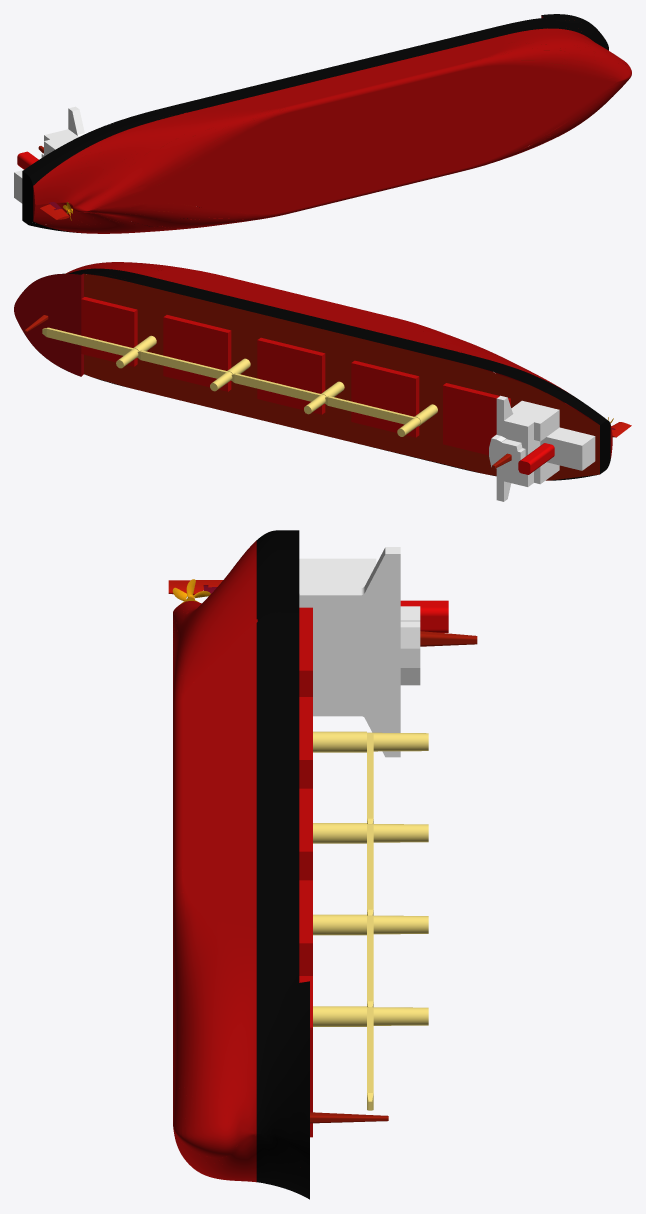
The model's file is BulkCarrier84.fbx.
3 renders of one model, top to bottom at view 1: azimuth 30°, elevation 25°; view 2: azimuth 150°, elevation 25°; view 3: azimuth 270°, elevation 25°, orthographic. The views are drawn at different scales.
Parts seen in each view (by area): view 1: BC84_Hull_Lower, BC84_Hull_Upper, BC84_Super; view 2: BC84_Deck, BC84_Hatch, BC84_Hull_Lower, BC84_Hull_Upper, BC84_Super, BC84_Crane, BC84_ForeCastle, BC84_Funnel; view 3: BC84_Hull_Lower, BC84_Hull_Upper, BC84_Super, BC84_Crane, BC84_Hatch, BC84_Deck, BC84_Funnel.
Boxes of the visible parts, x1,y1,x2,y2 form: BC84_Hull_Lower: [33, 28, 631, 233]; BC84_Hull_Upper: [22, 14, 608, 233]; BC84_Super: [14, 106, 84, 203]; BC84_Deck: [24, 273, 599, 480]; BC84_Hatch: [81, 297, 510, 455]; BC84_Hull_Lower: [66, 262, 612, 458]; BC84_Hull_Upper: [24, 268, 610, 480]; BC84_Super: [489, 395, 595, 501]; BC84_Crane: [42, 327, 437, 436]; BC84_ForeCastle: [14, 273, 83, 376]; BC84_Funnel: [518, 443, 554, 474]; BC84_Hull_Lower: [173, 540, 257, 1182]; BC84_Hull_Upper: [256, 530, 309, 1199]; BC84_Super: [299, 547, 420, 757]; BC84_Crane: [313, 731, 428, 1110]; BC84_Hatch: [299, 607, 312, 1137]; BC84_Deck: [310, 631, 477, 1123]; BC84_Funnel: [400, 600, 448, 632].
Bounding box in the file's own units: 18.59 × 3.23 × 4.26.
